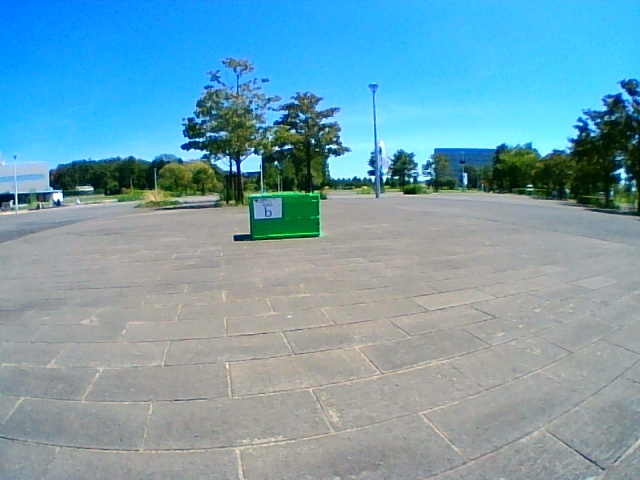green_box: (249, 192, 319, 237)
tag_b: (255, 198, 281, 218)
